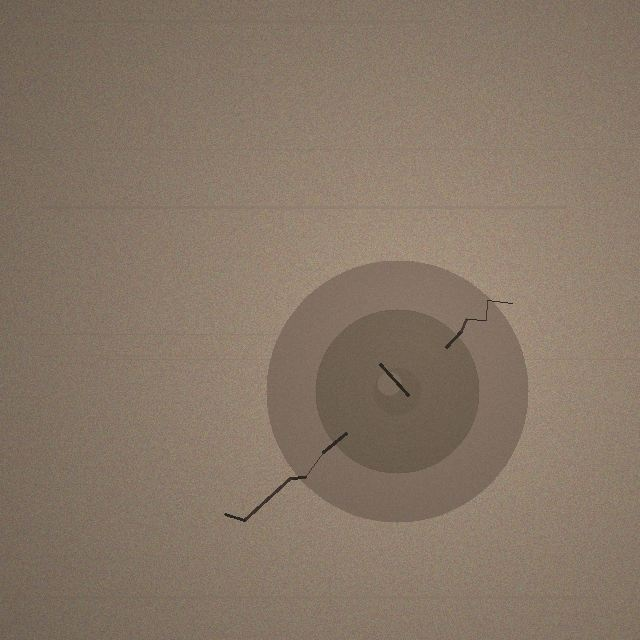crack: (266, 260, 528, 522)
